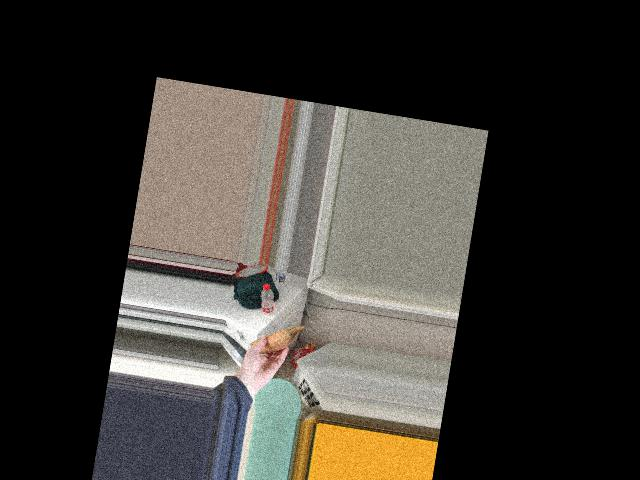sweet_potato: (253, 325, 290, 361)
